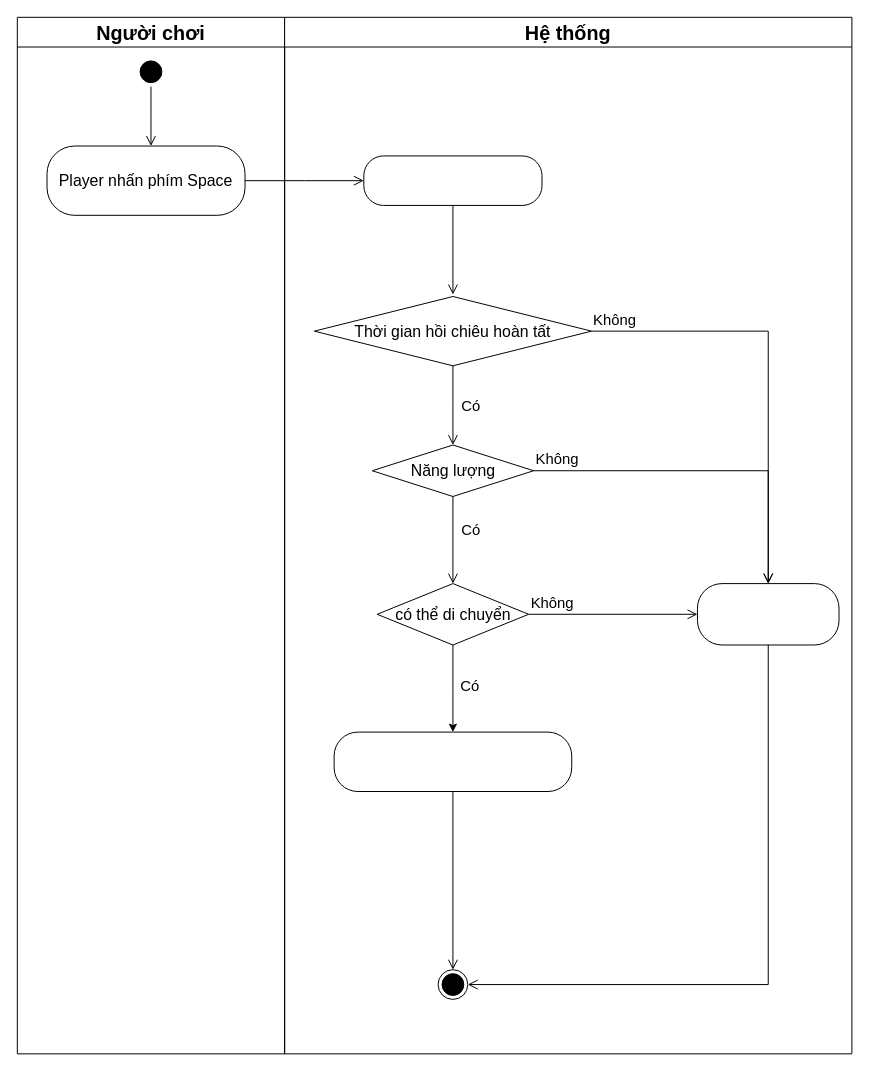
Image size: 869x1071. Some labels were removed from this diagram. Each missing label, with the box of its shape:
Không thể lướt: (696, 583, 839, 645)
Kiểm tra điều kiện lướt: (363, 155, 542, 205)
Nhân vật thực hiện lướt nhanh, theo hướng mong muốn: (333, 731, 572, 792)
